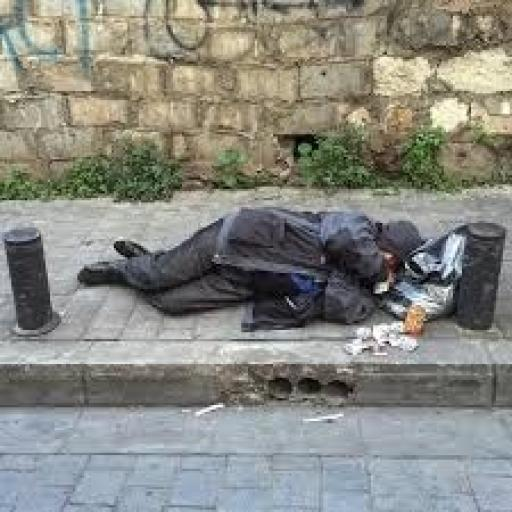sleeping: (75, 200, 428, 332)
